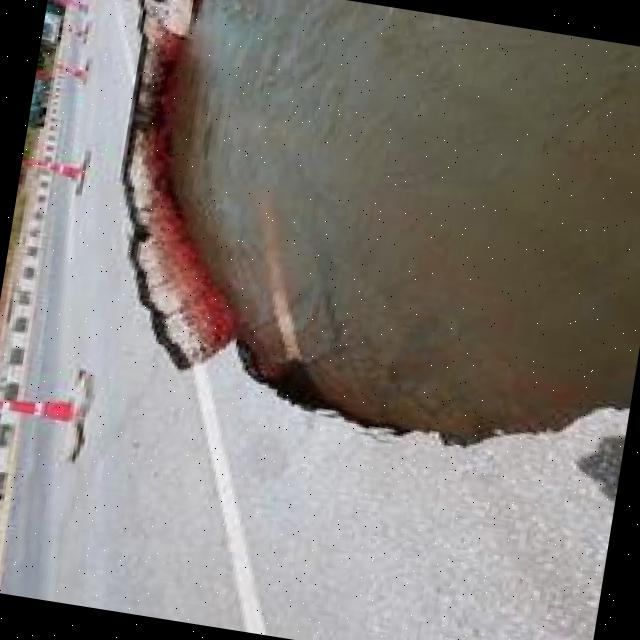road collapse: (26, 0, 640, 525)
